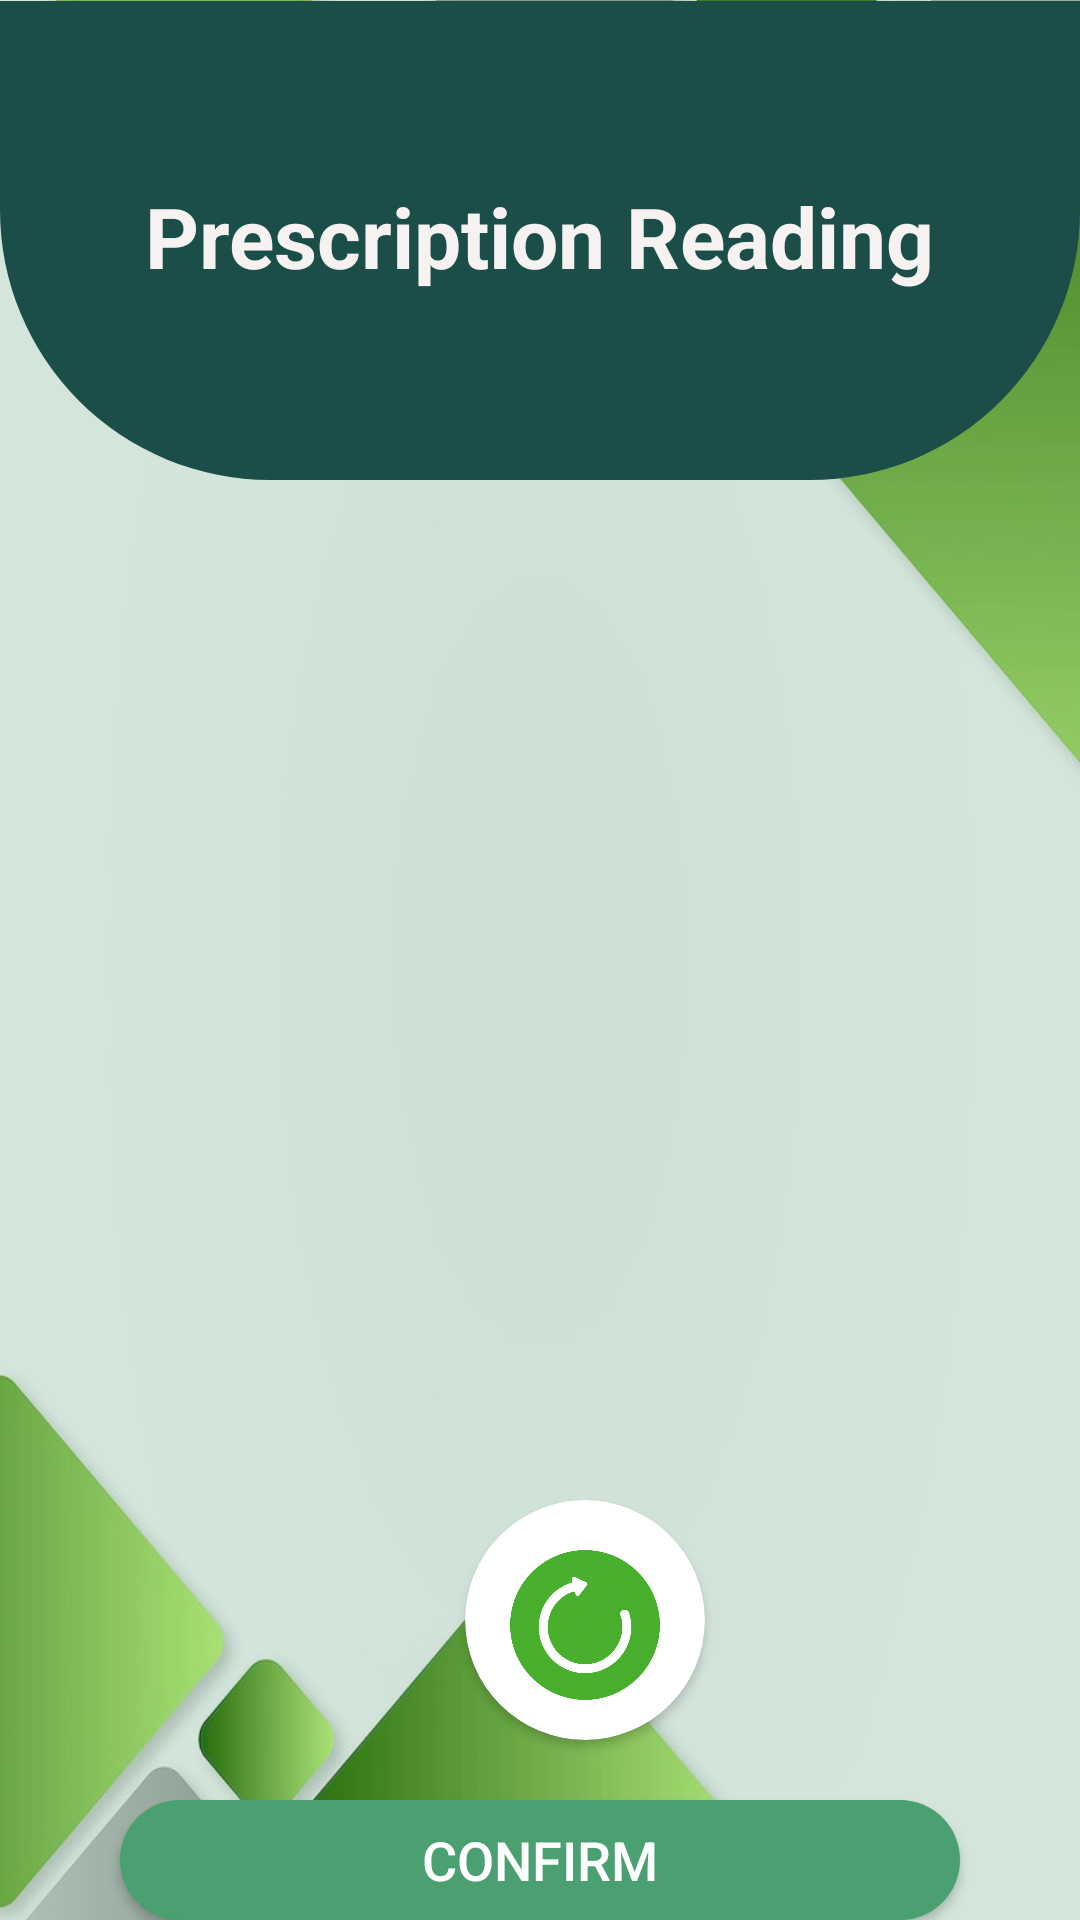

Icon click points for this 1080x1920 phone screenshot, format [x,y]:
rotate: [585,1625]
